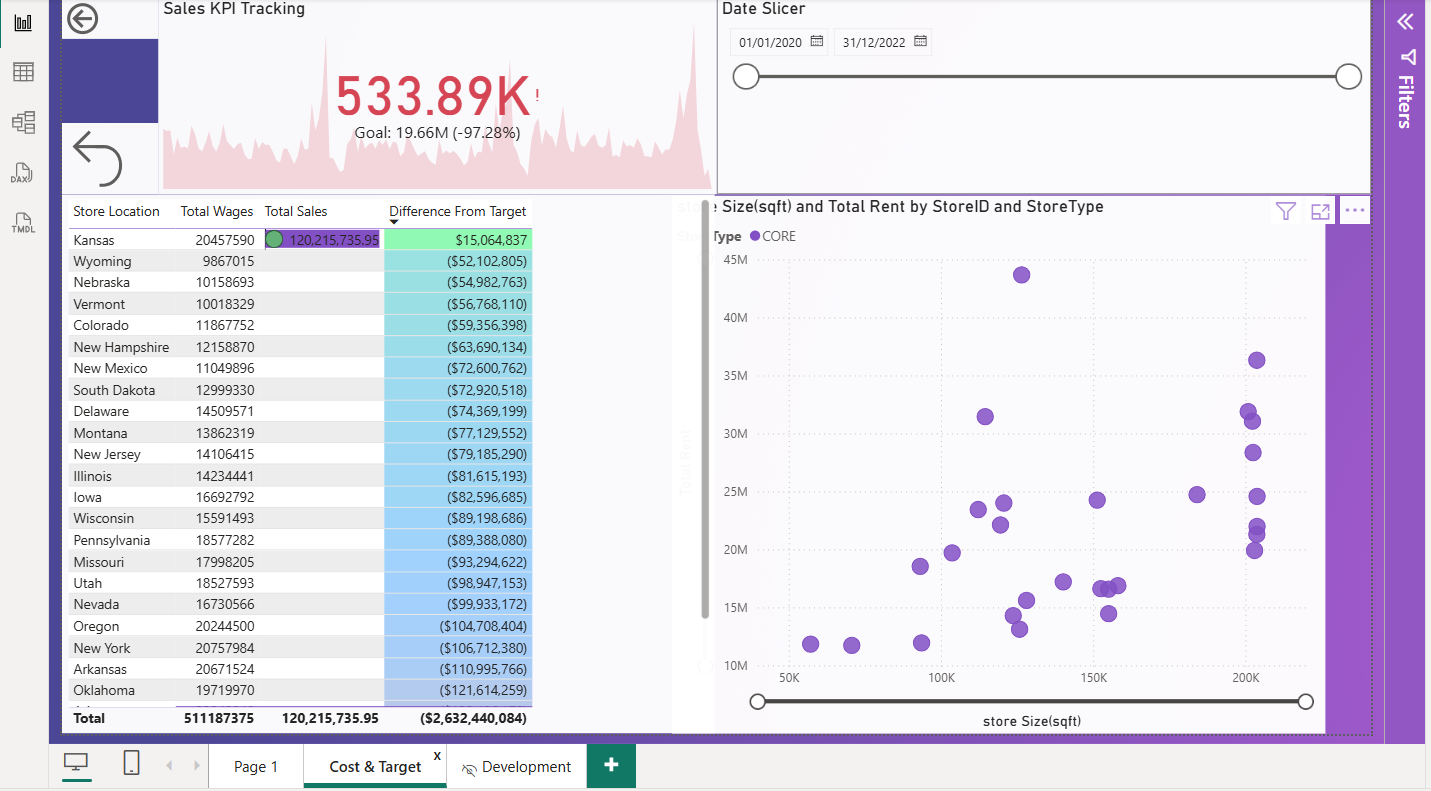

Layout of this report page (visuals, bound fields, positions):
{"tool":"powerbi","page":{"name":"Cost & Target","canvas":[1280,720],"ordinal":1},"visuals":[{"type":"scatterChart","fields":{"X":["Retail cost.store Size(sqft)"],"Y":["Retail cost.Total Rent"],"Category":["Store Details.StoreID"],"Series":["Store Details.StoreType"]},"box":[597.3,193.3,639.1,526.6],"z":0},{"type":"kpi","title":"Sales KPI Tracking","fields":{"Indicator":["Retail Sales.Total Sales"],"TrendLine":["Date.Date"],"Goal":["Retail cost.Total Targrt"]},"box":[94.2,0,546.6,192],"z":1000},{"type":"tableEx","fields":{"Values":["Store Details.Store Location","Retail cost.Total Wages","Retail Sales.Total Sales","Retail cost.Difference From Target"]},"box":[0,191.8,638.6,526.9],"z":1001},{"type":"slicer","title":"Date Slicer","fields":{"Values":["Date.Date"]},"box":[641,0,639,192],"z":1002},{"type":"actionButton","box":[0,122.3,94.2,69.7],"z":1003},{"type":"actionButton","box":[0,0,94.2,40.4],"z":1004}]}

Visuals, with their boxes on the page's 1280x720 design canvas (x1, y1, x2, y2). These are canvas units, not pixel positions in the 1431x791 screenshot, which may show the page scaled, cropped or inside an application window:
scatterChart - Retail cost.store Size(sqft) x Retail cost.Total Rent: x1=597, y1=193, x2=1236, y2=720
"Sales KPI Tracking" kpi: x1=94, y1=0, x2=641, y2=192
tableEx - Store Details.Store Location x Retail cost.Total Wages: x1=0, y1=192, x2=639, y2=719
"Date Slicer" slicer: x1=641, y1=0, x2=1280, y2=192
actionButton: x1=0, y1=122, x2=94, y2=192
actionButton: x1=0, y1=0, x2=94, y2=40
